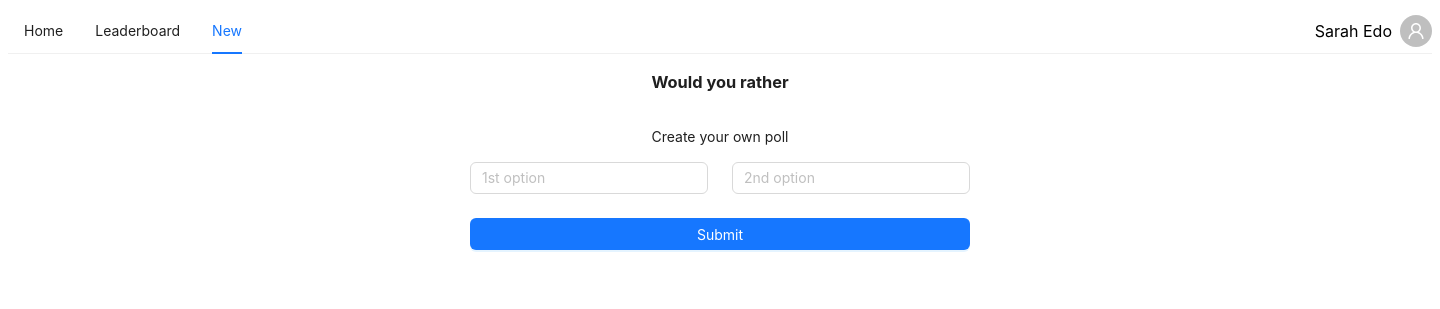
Test: UI › leaderboard new page load
Click the menu item "Leaderboard" at (138, 30), box [95, 22, 180, 39]
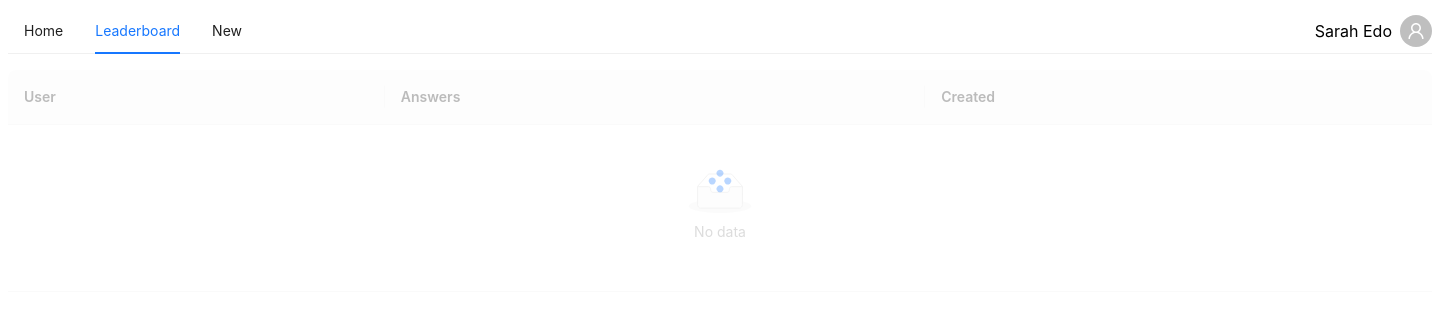
Check: the element with test id "leaderboard" is shown
